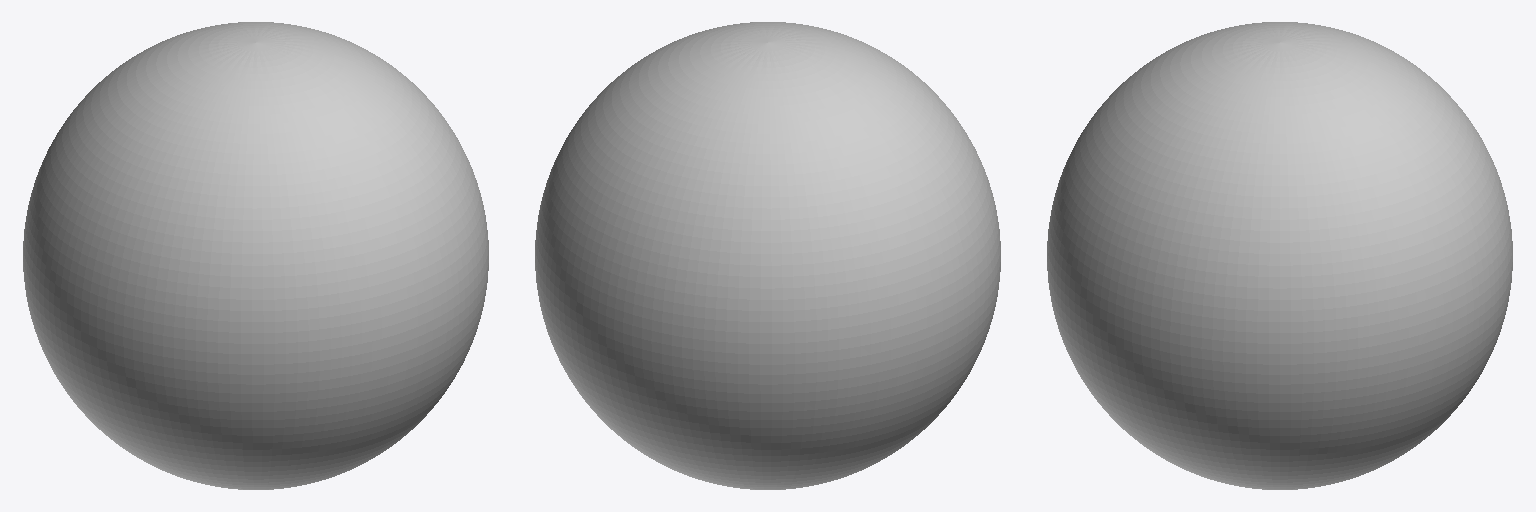
File: terra.obj
The picture shows the model from 3 angles: view 1: azimuth 30°, elevation 25°; view 2: azimuth 150°, elevation 25°; view 3: azimuth 270°, elevation 25°; orthographic projection.
Parts seen in each view (by area): view 1: Sphere; view 2: Sphere; view 3: Sphere.
Boxes of the visible parts, <box> form: Sphere: <box>23,22,488,489</box>; Sphere: <box>535,22,1000,489</box>; Sphere: <box>1047,22,1512,489</box>.
Size of the model in its own units: 1.98 by 2 by 1.98.